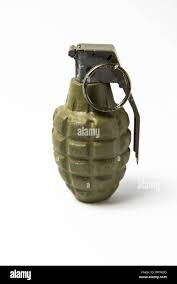bomb: (49, 41, 141, 202)
